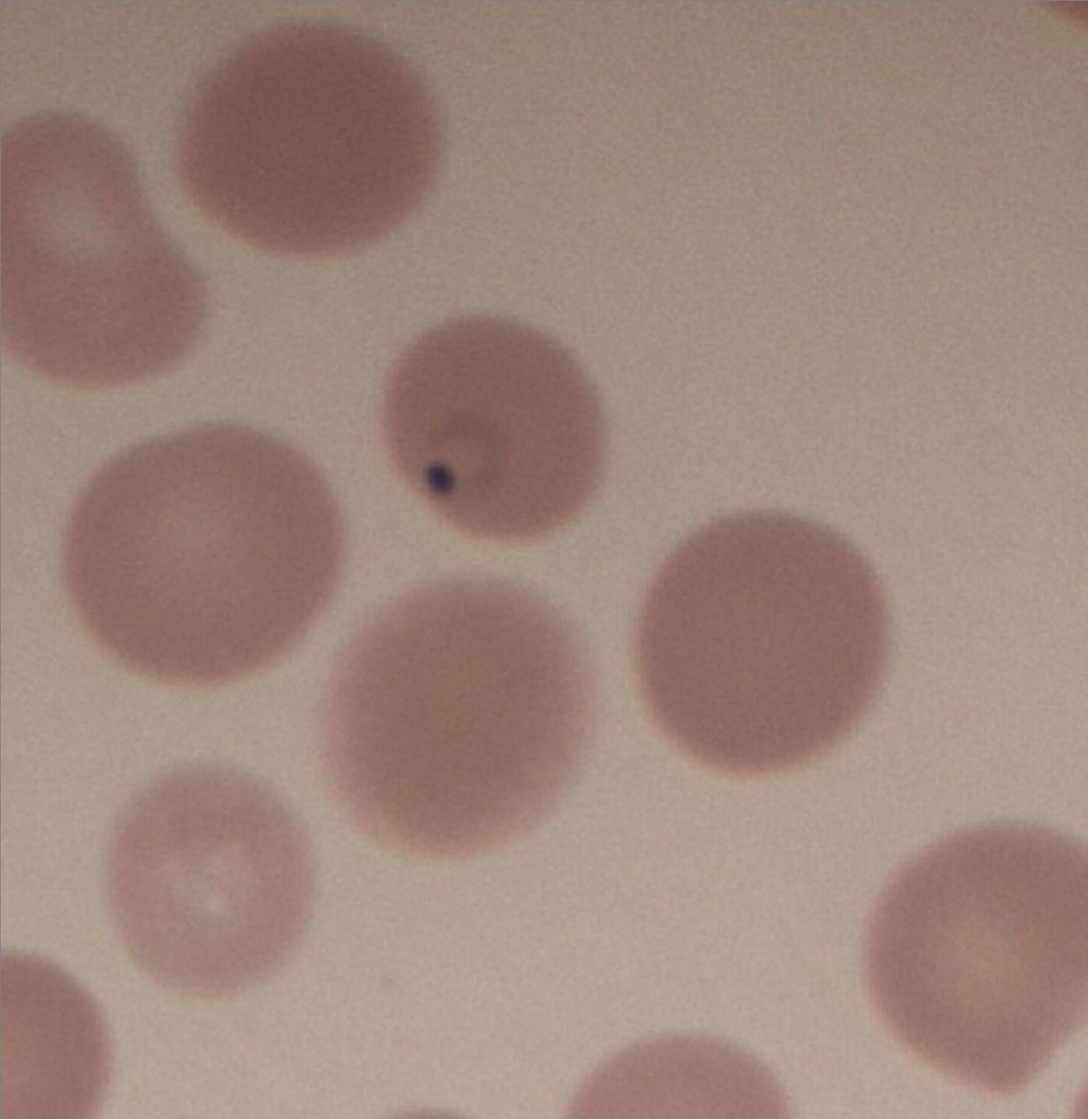Infected: (387, 317, 608, 540)
Uninfected: (324, 571, 612, 869), (635, 506, 890, 782), (67, 431, 340, 682), (181, 24, 436, 257), (866, 825, 1088, 1089), (111, 758, 321, 993)
